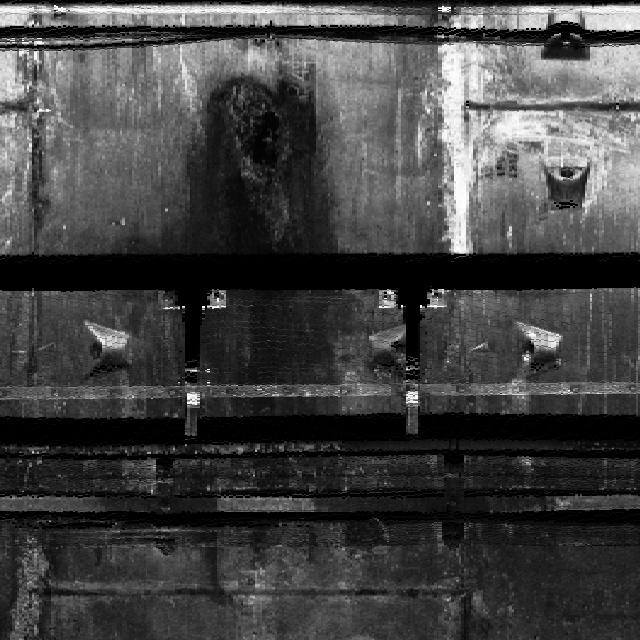leakage: (129, 71, 342, 255), (119, 285, 366, 417)
